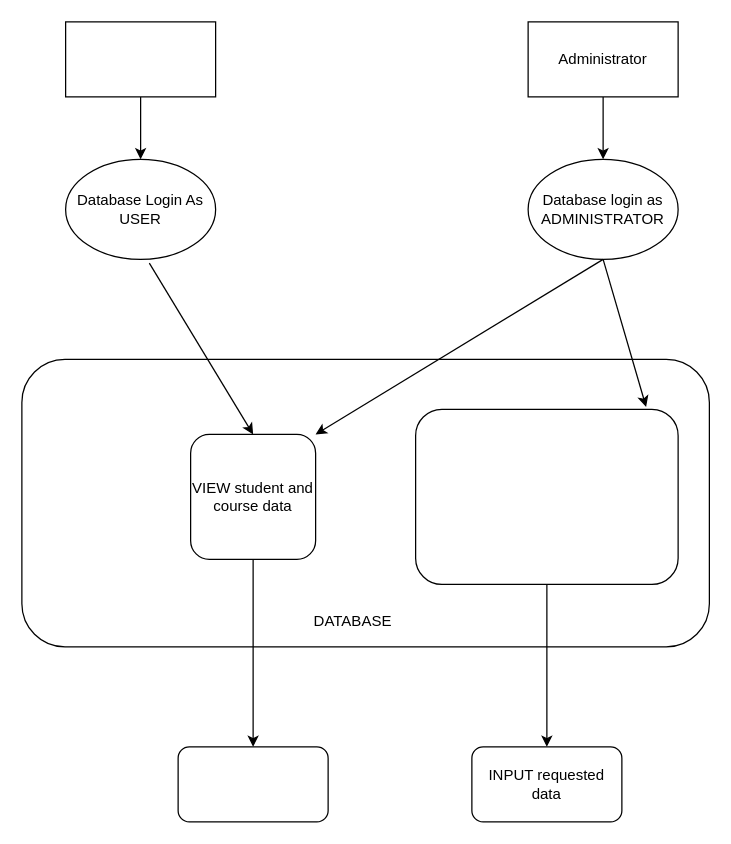
Image size: 731x844. Some labels were removed from this diagram. Here are the shapes that lost their labels. From the top down, the centre of each, then its label:
At [140,59]: "User (Student)".
At [546,496]: "INSERT, UPDATE, and REMOVE student and course data".
At [252,784]: "OUTPUT requested data".
